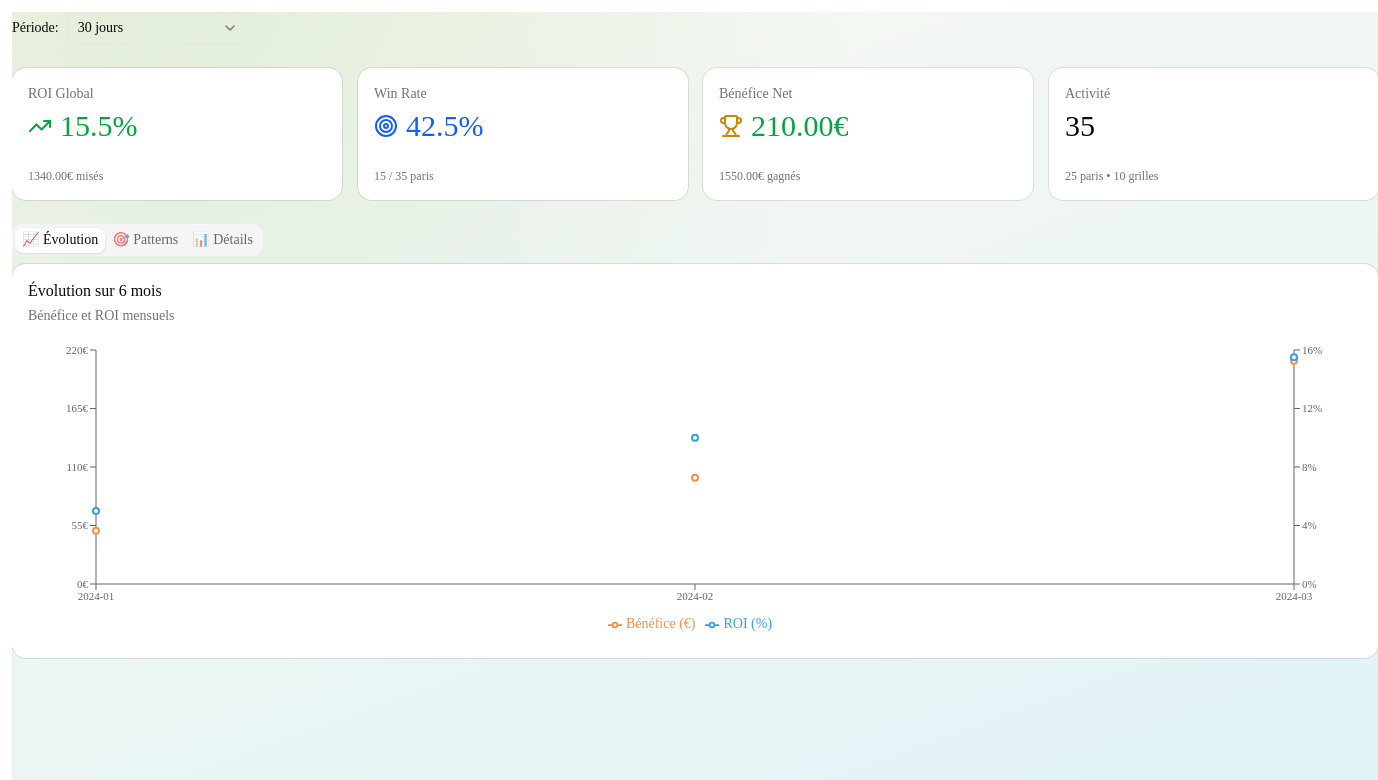
Scenario: StatsPersonnelles › affiche les détails financiers dans tab Détails
Click the tab "📊 Détails": (223, 240) [185,228,260,252]
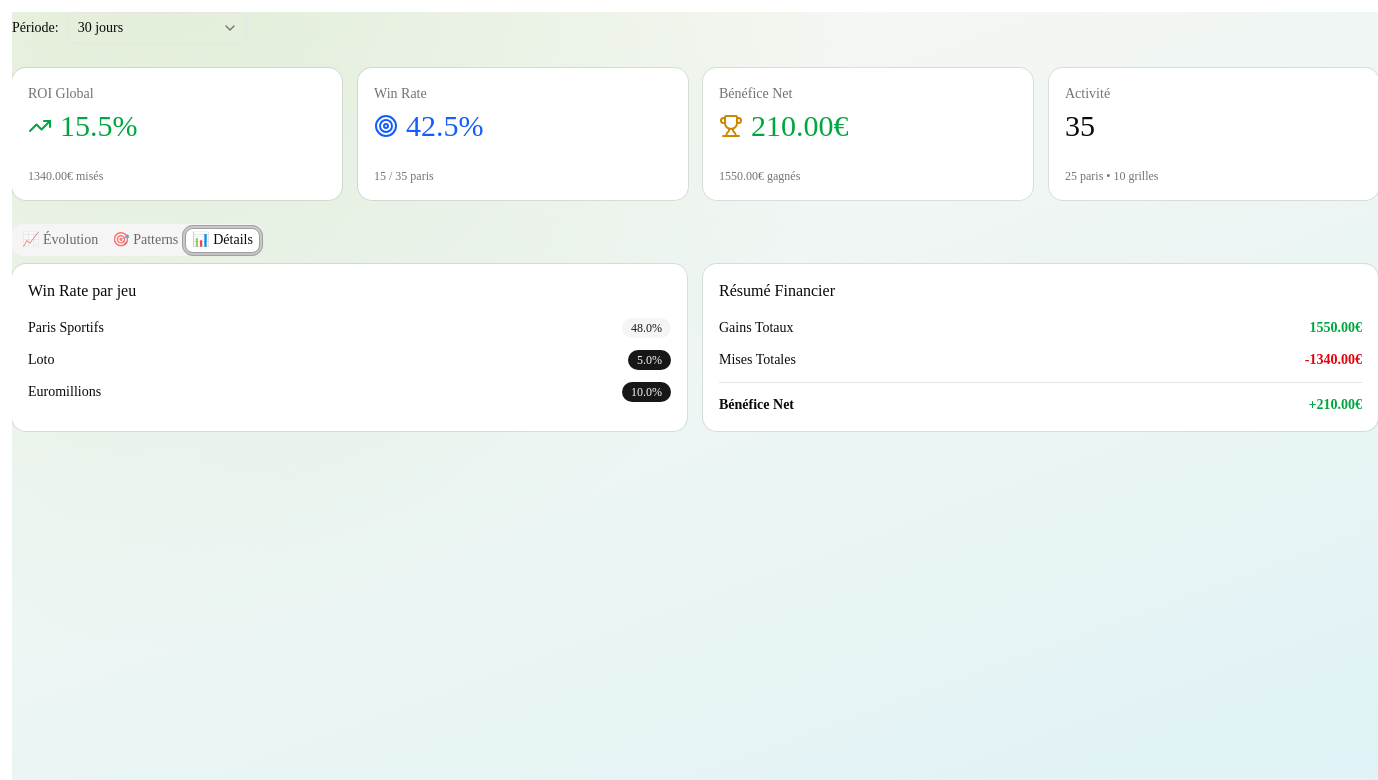
Check: the text "Résumé Financier" is shown, box [719,282,835,299]
Check: the text "-1340.00€" is shown, box [1305,350,1362,370]
Check: the text "+210.00€" is shown, box [1308,395,1362,415]
